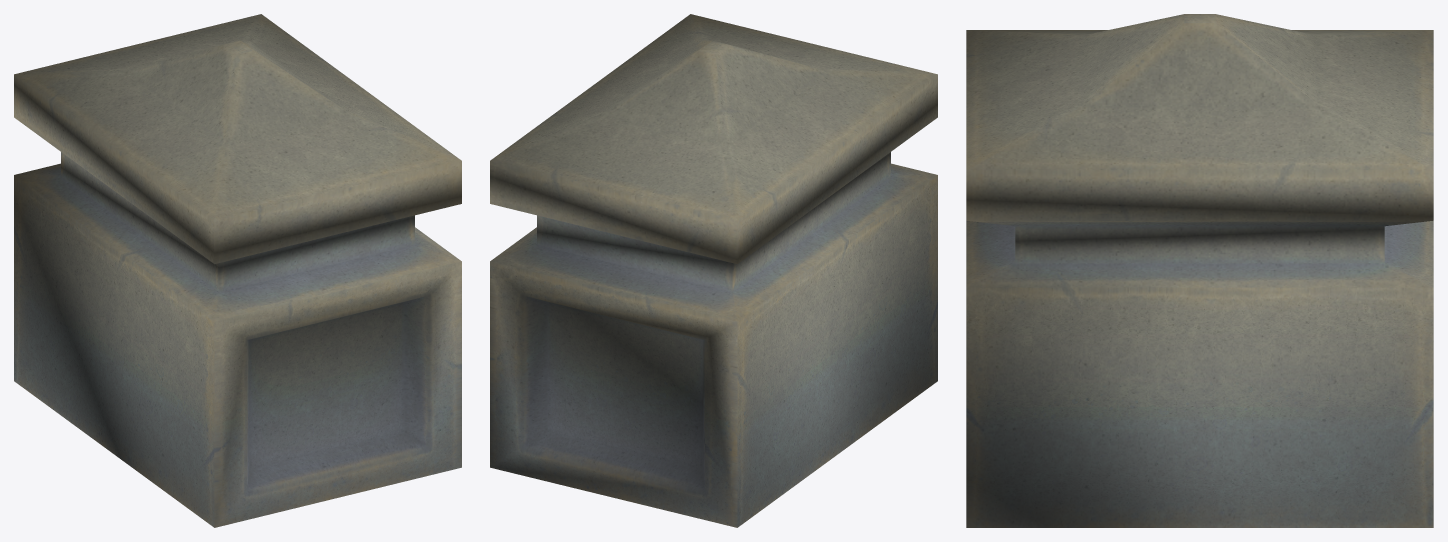
The model's file is AD_Frame_C_01.fbx.
3 views of the same model, side by side, from view 1: azimuth 30°, elevation 25°; view 2: azimuth 150°, elevation 25°; view 3: azimuth 270°, elevation 25° (orthographic). The views are drawn at different scales.
Parts seen in each view (by area): view 1: AD_Frame_C_01; view 2: AD_Frame_C_01; view 3: AD_Frame_C_01.
Boxes of the visible parts, x1,y1,x2,y2 form: AD_Frame_C_01: [14, 14, 461, 527]; AD_Frame_C_01: [490, 14, 937, 527]; AD_Frame_C_01: [966, 14, 1433, 527].
Size of the model in its own units: 195 by 285 by 275.
Materials: 1 (1 with a texture image).
